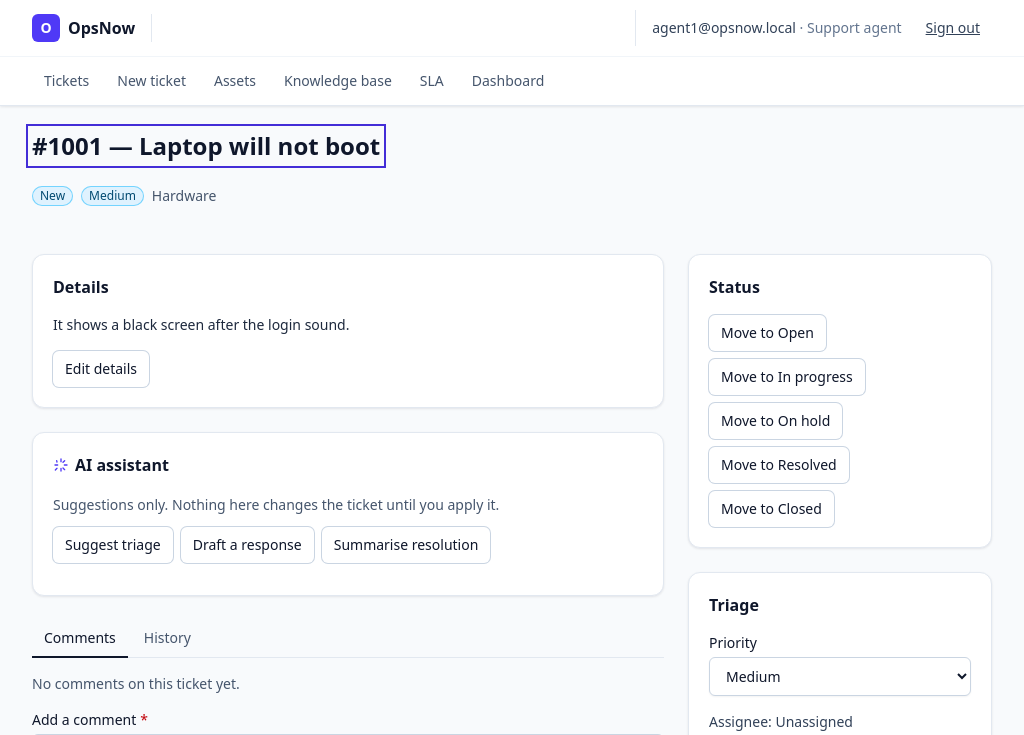
Test case: AI assistant — triage › renders the suggestion, labelled, without touching the ticket
Expected: the heading "#1001 — Laptop will not boot" is shown, top-left (32, 130), bottom-right (380, 162)
Click the button "Suggest triage": (113, 545) top-left (53, 527), bottom-right (173, 563)
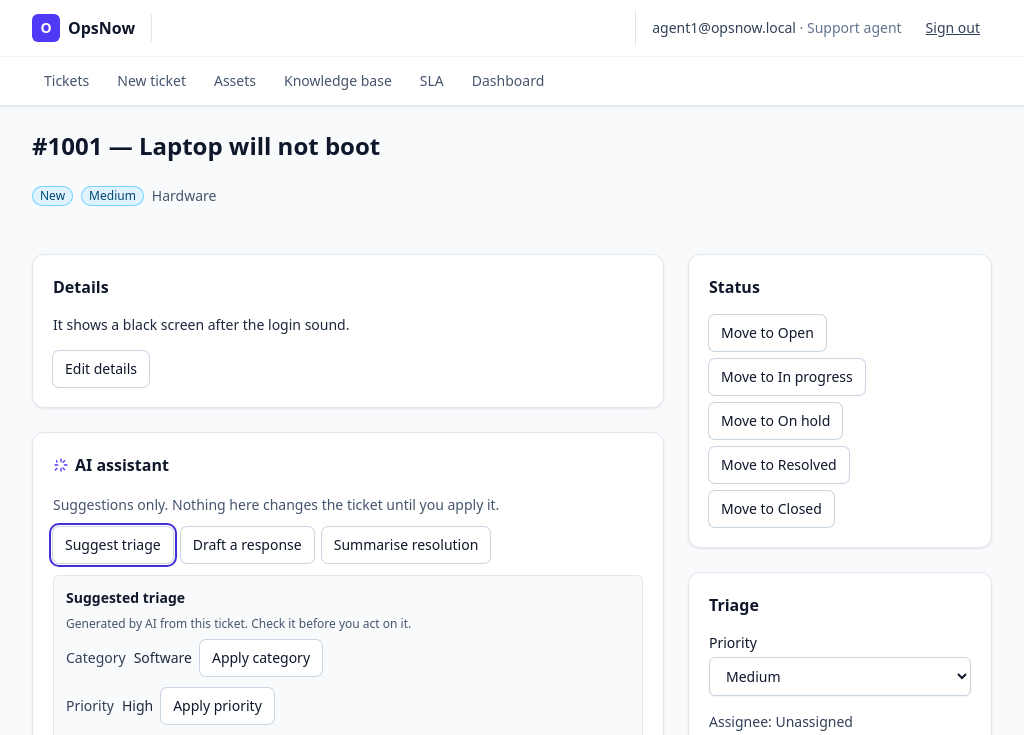
Now the text "Software" is shown, box top-left (134, 648), bottom-right (192, 668)
Now the text "High" is shown, box top-left (122, 696), bottom-right (153, 716)
Now the text "Generated by AI" is shown, box top-left (66, 615), bottom-right (411, 632)
